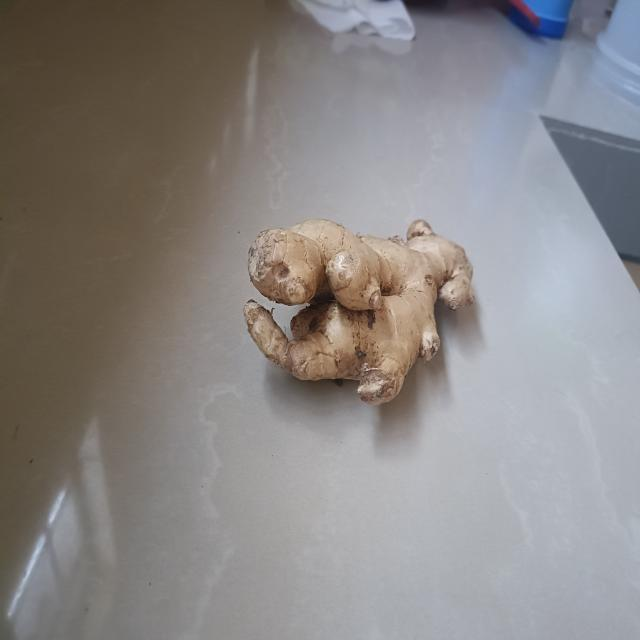ginger: (239, 204, 481, 407)
